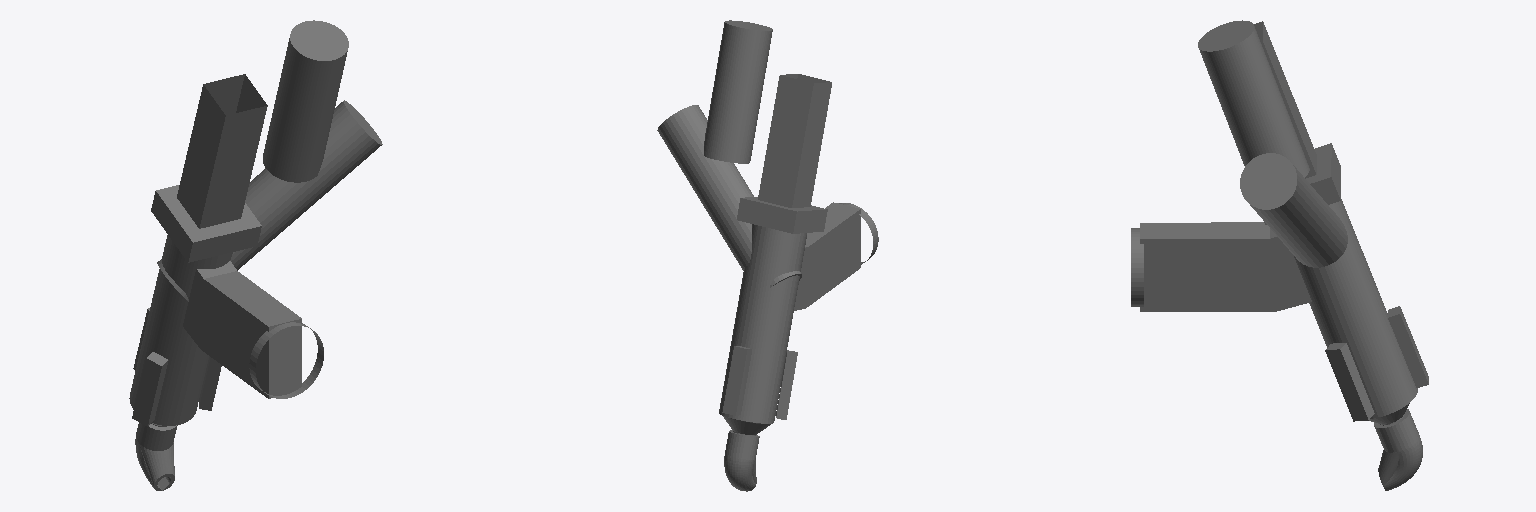
The robot description file, URDF, robot "ur20_robot":
<?xml version="1.0" ?>
<!-- =================================================================================== -->
<!-- |    This document was autogenerated by xacro from src/universal_robot/ur_description/urdf/ur20.xacro | -->
<!-- |    EDITING THIS FILE BY HAND IS NOT RECOMMENDED                                 | -->
<!-- =================================================================================== -->
<robot name="ur20_robot">
  <!--
    Base UR robot series xacro macro.

    NOTE: this is NOT a URDF. It cannot directly be loaded by consumers
    expecting a flattened '.urdf' file. See the top-level '.xacro' for that
    (but note: that .xacro must still be processed by the xacro command).

    For use in '.launch' files: use one of the 'load_urX.launch' convenience
    launch files.

    This file models the base kinematic chain of a UR robot, which then gets
    parameterised by various configuration files to convert it into a UR3(e),
    UR5(e), UR10(e), UR16e, UR20 or UR30.

    NOTE: the default kinematic parameters (ie: link lengths, frame locations,
    offets, etc) do not correspond to any particular robot. They are defaults
    only. There WILL be non-zero offsets between the Forward Kinematics results
    in TF (ie: robot_state_publisher) and the values reported by the Teach
    Pendant.

    For accurate (and robot-specific) transforms, the 'kinematics_parameters_file'
    parameter MUST point to a .yaml file containing the appropriate values for
    the targetted robot.

    If using the UniversalRobots/Universal_Robots_ROS_Driver, follow the steps
    described in the readme of that repository to extract the kinematic
    calibration from the controller and generate the required .yaml file.

    Main author of the migration to yaml configs: [author].

    Contributors to previous versions (in no particular order):

     - [author]
     - [author]
     - [author]
     - [author]
     - [author]
     - [author]
     - [author]
     - [author]
     - [author]
     - [author]
     - [author]
     - [author]
     - [author]
     - [author]
     - [author]
     - [author]
     - [author]
  -->
  <!--
    NOTE: the macro defined in this file is NOT part of the public API of this
          package. Users CANNOT rely on this file being available, or stored in
          this location. Nor can they rely on the existence of the macro.
  -->
  <transmission name="shoulder_pan_trans">
    <type>transmission_interface/SimpleTransmission</type>
    <joint name="shoulder_pan_joint">
      <hardwareInterface>hardware_interface/PositionJointInterface</hardwareInterface>
    </joint>
    <actuator name="shoulder_pan_motor">
      <mechanicalReduction>1</mechanicalReduction>
    </actuator>
  </transmission>
  <transmission name="shoulder_lift_trans">
    <type>transmission_interface/SimpleTransmission</type>
    <joint name="shoulder_lift_joint">
      <hardwareInterface>hardware_interface/PositionJointInterface</hardwareInterface>
    </joint>
    <actuator name="shoulder_lift_motor">
      <mechanicalReduction>1</mechanicalReduction>
    </actuator>
  </transmission>
  <transmission name="elbow_trans">
    <type>transmission_interface/SimpleTransmission</type>
    <joint name="elbow_joint">
      <hardwareInterface>hardware_interface/PositionJointInterface</hardwareInterface>
    </joint>
    <actuator name="elbow_motor">
      <mechanicalReduction>1</mechanicalReduction>
    </actuator>
  </transmission>
  <transmission name="wrist_1_trans">
    <type>transmission_interface/SimpleTransmission</type>
    <joint name="wrist_1_joint">
      <hardwareInterface>hardware_interface/PositionJointInterface</hardwareInterface>
    </joint>
    <actuator name="wrist_1_motor">
      <mechanicalReduction>1</mechanicalReduction>
    </actuator>
  </transmission>
  <transmission name="wrist_2_trans">
    <type>transmission_interface/SimpleTransmission</type>
    <joint name="wrist_2_joint">
      <hardwareInterface>hardware_interface/PositionJointInterface</hardwareInterface>
    </joint>
    <actuator name="wrist_2_motor">
      <mechanicalReduction>1</mechanicalReduction>
    </actuator>
  </transmission>
  <transmission name="wrist_3_trans">
    <type>transmission_interface/SimpleTransmission</type>
    <joint name="wrist_3_joint">
      <hardwareInterface>hardware_interface/PositionJointInterface</hardwareInterface>
    </joint>
    <actuator name="wrist_3_motor">
      <mechanicalReduction>1</mechanicalReduction>
    </actuator>
  </transmission>
  <!-- links: main serial chain -->
  <link name="base_link">
    <inertial>
      <mass value="0.1"/>
      <origin rpy="0 0 0" xyz="0 0 0"/>
      <inertia ixx="0.001" ixy="0.0" ixz="0.0" iyy="0.001" iyz="0.0" izz="0.001"/>
    </inertial>
  </link>
  <link name="base_link_inertia">
    <visual>
      <origin rpy="0 0 3.141592653589793" xyz="0 0 0"/>
      <geometry>
        <mesh filename="package://./ur20/visual/base.dae"/>
      </geometry>
      <material name="LightGrey">
        <color rgba="0.7 0.7 0.7 1.0"/>
      </material>
    </visual>
    <collision>
      <origin rpy="0 0 3.141592653589793" xyz="0 0 0"/>
      <geometry>
        <mesh filename="package://./ur20/collision/base.stl"/>
      </geometry>
    </collision>
    <inertial>
      <mass value="4.0"/>
      <origin rpy="0 0 0" xyz="0 0 0"/>
      <inertia ixx="0.0061063308908" ixy="0.0" ixz="0.0" iyy="0.0061063308908" iyz="0.0" izz="0.01125"/>
    </inertial>
  </link>
  <link name="shoulder_link">
    <visual>
      <origin rpy="0 0 3.141592653589793" xyz="0 0 0"/>
      <geometry>
        <mesh filename="package://./ur20/visual/shoulder.dae"/>
      </geometry>
      <material name="LightGrey">
        <color rgba="0.7 0.7 0.7 1.0"/>
      </material>
    </visual>
    <collision>
      <origin rpy="0 0 3.141592653589793" xyz="0 0 0"/>
      <geometry>
        <mesh filename="package://./ur20/collision/shoulder.stl"/>
      </geometry>
    </collision>
    <inertial>
      <mass value="16.343"/>
      <origin rpy="0 0 0" xyz="0 0 0"/>
      <inertia ixx="0.06613328496334209" ixy="0.0" ixz="0.0" iyy="0.06613328496334209" iyz="0.0" izz="0.0459646875"/>
    </inertial>
  </link>
  <link name="upper_arm_link">
    <visual>
      <origin rpy="1.5707963267948966 0 -1.5707963267948966" xyz="0 0 0.26"/>
      <geometry>
        <mesh filename="package://./ur20/visual/upperarm.dae"/>
      </geometry>
      <material name="LightGrey">
        <color rgba="0.7 0.7 0.7 1.0"/>
      </material>
    </visual>
    <collision>
      <origin rpy="1.5707963267948966 0 -1.5707963267948966" xyz="0 0 0.26"/>
      <geometry>
        <mesh filename="package://./ur20/collision/upperarm.stl"/>
      </geometry>
    </collision>
    <inertial>
      <mass value="29.632"/>
      <origin rpy="0 1.5707963267948966 0" xyz="-0.426 0.0 0.275"/>
      <inertia ixx="1.8341682103324226" ixy="0.0" ixz="0.0" iyy="1.8341682103324226" iyz="0.0" izz="0.08334"/>
    </inertial>
  </link>
  <link name="forearm_link">
    <visual>
      <origin rpy="1.5707963267948966 0 -1.5707963267948966" xyz="0 0 0.043"/>
      <geometry>
        <mesh filename="package://./ur20/visual/forearm.dae"/>
      </geometry>
      <material name="LightGrey">
        <color rgba="0.7 0.7 0.7 1.0"/>
      </material>
    </visual>
    <collision>
      <origin rpy="1.5707963267948966 0 -1.5707963267948966" xyz="0 0 0.043"/>
      <geometry>
        <mesh filename="package://./ur20/collision/forearm.stl"/>
      </geometry>
    </collision>
    <inertial>
      <mass value="7.879"/>
      <origin rpy="0 1.5707963267948966 0" xyz="-0.36435 0.0 0.043"/>
      <inertia ixx="0.35972787265129336" ixy="0.0" ixz="0.0" iyy="0.35972787265129336" iyz="0.0" izz="0.022159687499999997"/>
    </inertial>
  </link>
  <link name="wrist_1_link">
    <visual>
      <!-- TODO: Move this to a parameter -->
      <origin rpy="1.5707963267948966 0 0" xyz="0 0 -0.0775"/>
      <geometry>
        <mesh filename="package://./ur20/visual/wrist1.dae"/>
      </geometry>
      <material name="LightGrey">
        <color rgba="0.7 0.7 0.7 1.0"/>
      </material>
    </visual>
    <collision>
      <origin rpy="1.5707963267948966 0 0" xyz="0 0 -0.0775"/>
      <geometry>
        <mesh filename="package://./ur20/collision/wrist1.stl"/>
      </geometry>
    </collision>
    <inertial>
      <mass value="3.054"/>
      <origin rpy="0 0 0" xyz="0 0 0"/>
      <inertia ixx="0.007959484316204999" ixy="0.0" ixz="0.0" iyy="0.007959484316204999" iyz="0.0" izz="0.008589374999999998"/>
    </inertial>
  </link>
  <link name="wrist_2_link">
    <visual>
      <origin rpy="0 0 0" xyz="0 0 -0.0749"/>
      <geometry>
        <mesh filename="package://./ur20/visual/wrist2.dae"/>
      </geometry>
      <material name="LightGrey">
        <color rgba="0.7 0.7 0.7 1.0"/>
      </material>
    </visual>
    <collision>
      <origin rpy="0 0 0" xyz="0 0 -0.0749"/>
      <geometry>
        <mesh filename="package://./ur20/collision/wrist2.stl"/>
      </geometry>
    </collision>
    <inertial>
      <mass value="3.126"/>
      <origin rpy="0 0 0" xyz="0 0 0"/>
      <inertia ixx="0.008147134241144998" ixy="0.0" ixz="0.0" iyy="0.008147134241144998" iyz="0.0" izz="0.008791875"/>
    </inertial>
  </link>
  <link name="wrist_3_link">
    <visual>
      <origin rpy="1.5707963267948966 0 0" xyz="0 0 -0.07"/>
      <geometry>
        <mesh filename="package://./ur20/visual/wrist3.dae"/>
      </geometry>
      <material name="LightGrey">
        <color rgba="0.7 0.7 0.7 1.0"/>
      </material>
    </visual>
    <collision>
      <origin rpy="1.5707963267948966 0 0" xyz="0 0 -0.07"/>
      <geometry>
        <mesh filename="package://./ur20/collision/wrist3.stl"/>
      </geometry>
    </collision>
    <inertial>
      <mass value="0.846"/>
      <origin rpy="0 0 0" xyz="0.0 0.0 -0.025"/>
      <inertia ixx="0.000604537258185" ixy="0.0" ixz="0.0" iyy="0.000604537258185" iyz="0.0" izz="0.0008565749999999999"/>
    </inertial>
  </link>
  <!-- joints: main serial chain -->
  <joint name="base_link-base_link_inertia" type="fixed">
    <parent link="base_link"/>
    <child link="base_link_inertia"/>
    <!-- 'base_link' is REP-103 aligned (so X+ forward), while the internal
           frames of the robot/controller have X+ pointing backwards.
           Use the joint between 'base_link' and 'base_link_inertia' (a dummy
           link/frame) to introduce the necessary rotation over Z (of pi rad).
      -->
    <origin rpy="0 0 3.141592653589793" xyz="0 0 0"/>
  </joint>
  <joint name="shoulder_pan_joint" type="revolute">
    <parent link="base_link_inertia"/>
    <child link="shoulder_link"/>
    <origin rpy="0 0 0" xyz="0 0 0.2363"/>
    <axis xyz="0 0 1"/>
    <limit effort="730.0" lower="-6.283185307179586" upper="6.283185307179586" velocity="2.0943951023931953"/>
    <dynamics damping="0" friction="0"/>
  </joint>
  <joint name="shoulder_lift_joint" type="revolute">
    <parent link="shoulder_link"/>
    <child link="upper_arm_link"/>
    <origin rpy="1.570796327 0 0" xyz="0 0 0"/>
    <axis xyz="0 0 1"/>
    <limit effort="730.0" lower="-6.283185307179586" upper="6.283185307179586" velocity="2.0943951023931953"/>
    <dynamics damping="0" friction="0"/>
  </joint>
  <joint name="elbow_joint" type="revolute">
    <parent link="upper_arm_link"/>
    <child link="forearm_link"/>
    <origin rpy="0 0 0" xyz="-0.862 0 0"/>
    <axis xyz="0 0 1"/>
    <limit effort="430.0" lower="-3.141592653589793" upper="3.141592653589793" velocity="2.6179938779914944"/>
    <dynamics damping="0" friction="0"/>
  </joint>
  <joint name="wrist_1_joint" type="revolute">
    <parent link="forearm_link"/>
    <child link="wrist_1_link"/>
    <origin rpy="0 0 0" xyz="-0.7287 0 0.201"/>
    <axis xyz="0 0 1"/>
    <limit effort="100.0" lower="-6.283185307179586" upper="6.283185307179586" velocity="3.6651914291880923"/>
    <dynamics damping="0" friction="0"/>
  </joint>
  <joint name="wrist_2_joint" type="revolute">
    <parent link="wrist_1_link"/>
    <child link="wrist_2_link"/>
    <origin rpy="1.570796327 0 0" xyz="0 -0.1593 -3.267297616249225e-11"/>
    <axis xyz="0 0 1"/>
    <limit effort="100.0" lower="-6.283185307179586" upper="6.283185307179586" velocity="3.6651914291880923"/>
    <dynamics damping="0" friction="0"/>
  </joint>
  <joint name="wrist_3_joint" type="revolute">
    <parent link="wrist_2_link"/>
    <child link="wrist_3_link"/>
    <origin rpy="1.570796326589793 3.141592653589793 3.141592653589793" xyz="0 0.1543 -3.1647459019915597e-11"/>
    <axis xyz="0 0 1"/>
    <limit effort="100.0" lower="-6.283185307179586" upper="6.283185307179586" velocity="3.6651914291880923"/>
    <dynamics damping="0" friction="0"/>
  </joint>
  <!-- ROS-Industrial 'base' frame: base_link to UR 'Base' Coordinates transform -->
  <link name="base">
    <inertial>
      <mass value="0.1"/>
      <origin rpy="0 0 0" xyz="0 0 0"/>
      <inertia ixx="0.001" ixy="0.0" ixz="0.0" iyy="0.001" iyz="0.0" izz="0.001"/>
    </inertial>
  </link>
  <joint name="base_link-base_fixed_joint" type="fixed">
    <!-- Note the rotation over Z of pi radians: as base_link is REP-103
           aligned (ie: has X+ forward, Y+ left and Z+ up), this is needed
           to correctly align 'base' with the 'Base' coordinate system of
           the UR controller.
      -->
    <origin rpy="0 0 3.141592653589793" xyz="0 0 0"/>
    <parent link="base_link"/>
    <child link="base"/>
  </joint>
  <!-- ROS-Industrial 'flange' frame: attachment point for EEF models -->
  <link name="flange">
    <inertial>
      <mass value="0.1"/>
      <origin rpy="0 0 0" xyz="0 0 0"/>
      <inertia ixx="0.001" ixy="0.0" ixz="0.0" iyy="0.001" iyz="0.0" izz="0.001"/>
    </inertial>
  </link>
  <joint name="wrist_3-flange" type="fixed">
    <parent link="wrist_3_link"/>
    <child link="flange"/>
    <origin rpy="0 -1.5707963267948966 -1.5707963267948966" xyz="0 0 0"/>
  </joint>
  <!-- ROS-Industrial 'tool0' frame: all-zeros tool frame -->
  <link name="tool0">
    <inertial>
      <mass value="0.1"/>
      <origin rpy="0 0 0" xyz="0 0 0"/>
      <inertia ixx="0.001" ixy="0.0" ixz="0.0" iyy="0.001" iyz="0.0" izz="0.001"/>
    </inertial>
  </link>
  <joint name="flange-tool0" type="fixed">
    <!-- default toolframe: X+ left, Y+ up, Z+ front -->
    <origin rpy="1.5707963267948966 0 1.5707963267948966" xyz="0 0 0"/>
    <parent link="flange"/>
    <child link="tool0"/>
  </joint>
  <!-- Tool link -->
  <link name="tool">
    <!-- Visual elements -->
    <visual>
      <origin xyz="0 0 0" rpy="0 0 0"/>
      <geometry>
        <mesh filename="package://research_project/data/tool_geometry/250213_attachment.stl" scale="1 1 1"/>
      </geometry>
      <material name="tool_material">
        <color rgba="0.5 0.5 0.5 1"/>
      </material>
    </visual>
    <visual>
      <origin xyz="0 0 0" rpy="0 0 0"/>
      <geometry>
        <mesh filename="package://research_project/data/tool_geometry/250213_clamp1.stl" scale="1 1 1"/>
      </geometry>
      <material name="tool_material">
        <color rgba="0.5 0.5 0.5 1"/>
      </material>
    </visual>
    <visual>
      <origin xyz="0 0 0" rpy="0 0 0"/>
      <geometry>
        <mesh filename="package://research_project/data/tool_geometry/250213_clamp2.stl" scale="1 1 1"/>
      </geometry>
      <material name="tool_material">
        <color rgba="0.5 0.5 0.5 1"/>
      </material>
    </visual>
    <visual>
      <origin xyz="0 0 0" rpy="0 0 0"/>
      <geometry>
        <mesh filename="package://research_project/data/tool_geometry/250213_clamp3.stl" scale="1 1 1"/>
      </geometry>
      <material name="tool_material">
        <color rgba="0.5 0.5 0.5 1"/>
      </material>
    </visual>
    <visual>
      <origin xyz="0 0 0" rpy="0 0 0"/>
      <geometry>
        <mesh filename="package://research_project/data/tool_geometry/250423_inlet_straight.stl" scale="1 1 1"/>
      </geometry>
      <material name="tool_material">
        <color rgba="0.5 0.5 0.5 1"/>
      </material>
    </visual>
    <visual>
      <origin xyz="0 0 0" rpy="0 0 0"/>
      <geometry>
        <mesh filename="package://research_project/data/tool_geometry/250213_motor.stl" scale="1 1 1"/>
      </geometry>
      <material name="tool_material">
        <color rgba="0.5 0.5 0.5 1"/>
      </material>
    </visual>
    <visual>
      <origin xyz="0 0 0" rpy="0 0 0"/>
      <geometry>
        <mesh filename="package://research_project/data/tool_geometry/250213_motor_flange.stl" scale="1 1 1"/>
      </geometry>
      <material name="tool_material">
        <color rgba="0.5 0.5 0.5 1"/>
      </material>
    </visual>
    <visual>
      <origin xyz="0 0 0" rpy="0 0 0"/>
      <geometry>
        <mesh filename="package://research_project/data/tool_geometry/250213_adapter.stl" scale="1 1 1"/>
      </geometry>
      <material name="tool_material">
        <color rgba="0.5 0.5 0.5 1"/>
      </material>
    </visual>
    <visual>
      <origin xyz="0 0 0" rpy="0 0 0"/>
      <geometry>
        <mesh filename="package://research_project/data/tool_geometry/250213_pipe.stl" scale="1 1 1"/>
      </geometry>
      <material name="tool_material">
        <color rgba="0.5 0.5 0.5 1"/>
      </material>
    </visual>
    <visual>
      <origin xyz="0 0 0" rpy="0 0 0"/>
      <geometry>
        <mesh filename="package://research_project/data/tool_geometry/250213_90deg.stl" scale="1 1 1"/>
      </geometry>
      <material name="tool_material">
        <color rgba="0.5 0.5 0.5 1"/>
      </material>
    </visual>
    <visual>
      <origin xyz="0 0 0" rpy="0 0 0"/>
      <geometry>
        <mesh filename="package://research_project/data/tool_geometry/250213_valve.stl" scale="1 1 1"/>
      </geometry>
      <material name="tool_material">
        <color rgba="0.5 0.5 0.5 1"/>
      </material>
    </visual>
    <visual>
      <origin xyz="0 0 0" rpy="0 0 0"/>
      <geometry>
        <mesh filename="package://research_project/data/tool_geometry/250213_base.stl" scale="1 1 1"/>
      </geometry>
      <material name="tool_material">
        <color rgba="0.5 0.5 0.5 1"/>
      </material>
    </visual>
    <!-- Collision elements -->
    <collision>
      <origin xyz="0 0 0" rpy="0 0 0"/>
      <geometry>
        <mesh filename="package://research_project/data/tool_geometry/250213_attachment.stl" scale="1 1 1"/>
      </geometry>
    </collision>
    <collision>
      <origin xyz="0 0 0" rpy="0 0 0"/>
      <geometry>
        <mesh filename="package://research_project/data/tool_geometry/250213_clamp1.stl" scale="1 1 1"/>
      </geometry>
    </collision>
    <collision>
      <origin xyz="0 0 0" rpy="0 0 0"/>
      <geometry>
        <mesh filename="package://research_project/data/tool_geometry/250213_clamp2.stl" scale="1 1 1"/>
      </geometry>
    </collision>
    <collision>
      <origin xyz="0 0 0" rpy="0 0 0"/>
      <geometry>
        <mesh filename="package://research_project/data/tool_geometry/250213_clamp3.stl" scale="1 1 1"/>
      </geometry>
    </collision>
    <collision>
      <origin xyz="0 0 0" rpy="0 0 0"/>
      <geometry>
        <mesh filename="package://research_project/data/tool_geometry/250423_inlet_straight.stl" scale="1 1 1"/>
      </geometry>
    </collision>
    <collision>
      <origin xyz="0 0 0" rpy="0 0 0"/>
      <geometry>
        <mesh filename="package://research_project/data/tool_geometry/250213_motor.stl" scale="1 1 1"/>
      </geometry>
    </collision>
    <collision>
      <origin xyz="0 0 0" rpy="0 0 0"/>
      <geometry>
        <mesh filename="package://research_project/data/tool_geometry/250213_motor_flange.stl" scale="1 1 1"/>
      </geometry>
    </collision>
    <collision>
      <origin xyz="0 0 0" rpy="0 0 0"/>
      <geometry>
        <mesh filename="package://research_project/data/tool_geometry/250213_adapter.stl" scale="1 1 1"/>
      </geometry>
    </collision>
    <collision>
      <origin xyz="0 0 0" rpy="0 0 0"/>
      <geometry>
        <mesh filename="package://research_project/data/tool_geometry/250213_pipe.stl" scale="1 1 1"/>
      </geometry>
    </collision>
    <collision>
      <origin xyz="0 0 0" rpy="0 0 0"/>
      <geometry>
        <mesh filename="package://research_project/data/tool_geometry/250213_90deg.stl" scale="1 1 1"/>
      </geometry>
    </collision>
    <collision>
      <origin xyz="0 0 0" rpy="0 0 0"/>
      <geometry>
        <mesh filename="package://research_project/data/tool_geometry/250213_valve.stl" scale="1 1 1"/>
      </geometry>
    </collision>
    <collision>
      <origin xyz="0 0 0" rpy="0 0 0"/>
      <geometry>
        <mesh filename="package://research_project/data/tool_geometry/250213_base.stl" scale="1 1 1"/>
      </geometry>
    </collision>
    <!-- Inertial element -->
    <inertial>
      <origin xyz="0 0 0" rpy="0 0 0"/>
      <mass value="0.3"/> <!-- Adjust the mass value accordingly -->
      <inertia ixx="0.003" ixy="0" ixz="0" iyy="0.003" iyz="0" izz="0.003"/> <!-- Adjust the inertia values accordingly -->
    </inertial>
  </link>

  <!-- Joint to attach the tool to the end effector -->
  <joint name="tool_joint" type="fixed">
    <parent link="tool0"/>
    <child link="tool"/>
    <origin xyz="0 0 0" rpy="0 0 0"/>
  </joint>
</robot>

--- What the picture shows (computed from the rendered views, not written in the file) ---
Views: 3 orthographic renders of the robot side by side, from view 1: azimuth 30°, elevation 25°; view 2: azimuth 150°, elevation 25°; view 3: azimuth 270°, elevation 25°.
Model ur20_robot with 12 links and 11 joints (6 revolute, 5 fixed), rooted at base_link, posed every joint at zero.
Visible links, largest first — view 1: tool; view 2: tool; view 3: tool.
Boxes of the visible links, x1,y1,x2,y2 form: tool: (129, 20, 382, 490); tool: (657, 20, 878, 491); tool: (1131, 20, 1428, 490).
Bounding box of the posed robot: 0.288 × 0.3717 × 0.6899 m (x, y, z).
Meshes: 19 distinct files referenced, 12 mesh visuals loaded (12 binary STL); not drawn: 7 (reference not matched to a file when rendering).